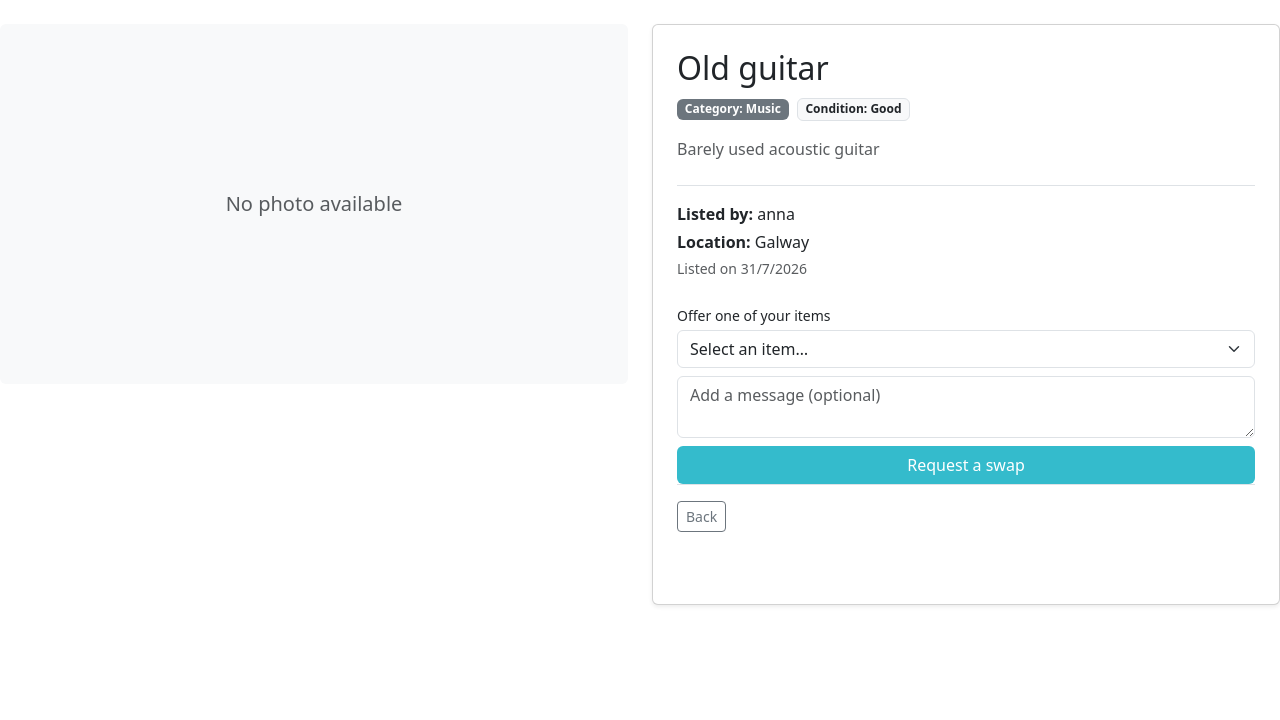
Test: ItemDetailPage › shows an error returned by the swap request API
Expected: the heading "Old guitar" is shown, [677, 46, 829, 89]
Step 1. Select "My spare bike" in the dropdown → [966, 349], box [677, 330, 1255, 368]
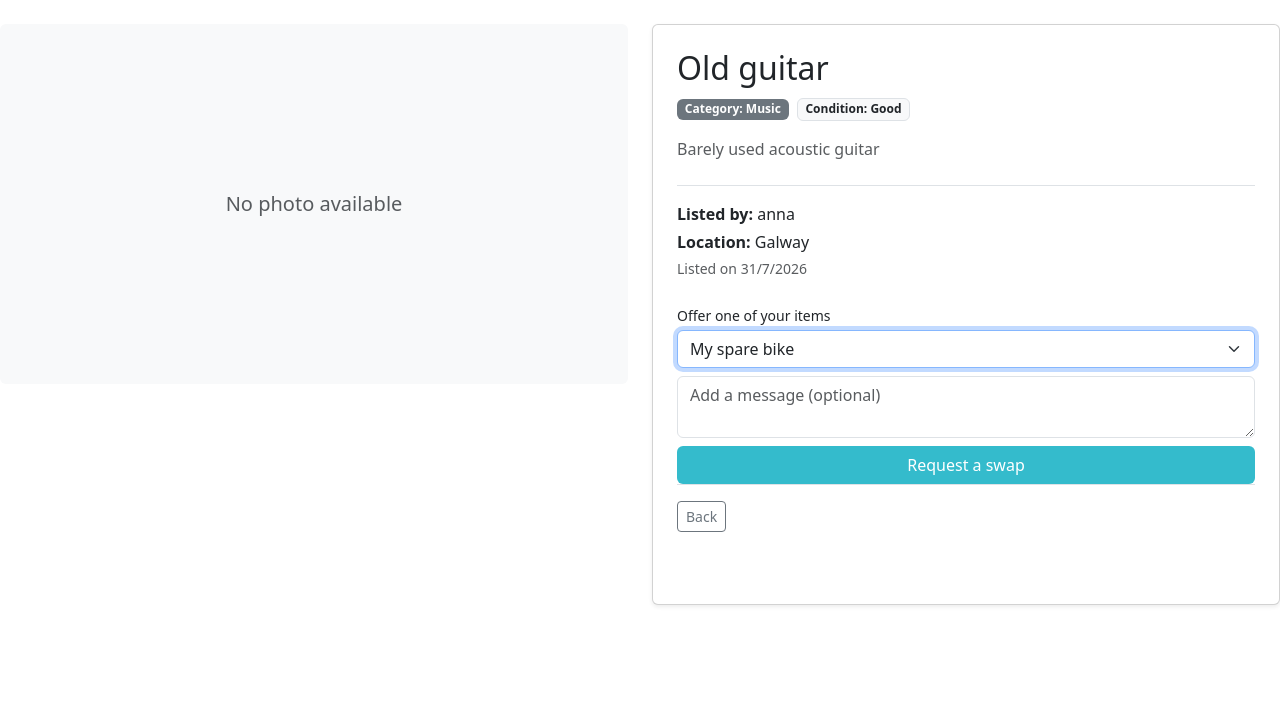
Step 2. Click the button "Request a swap" → [966, 465], box [677, 446, 1255, 484]
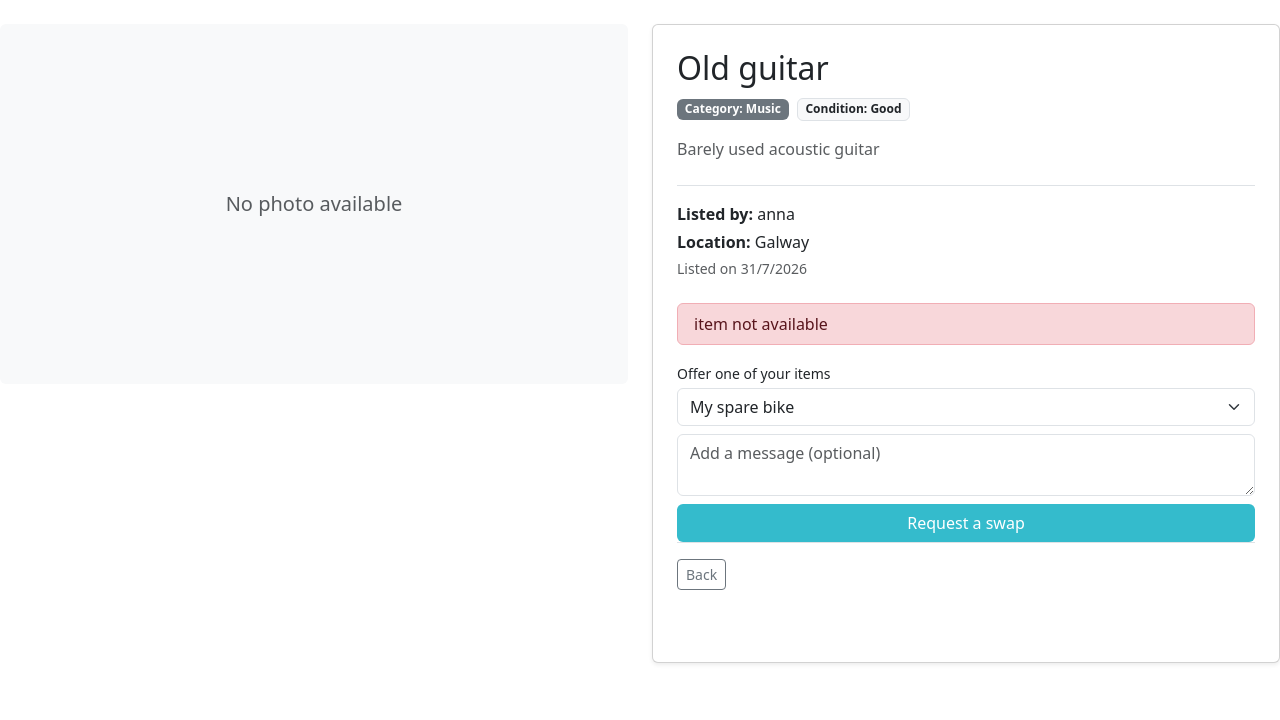
Result: the text "item not available" is shown at [677, 303, 1255, 345]
